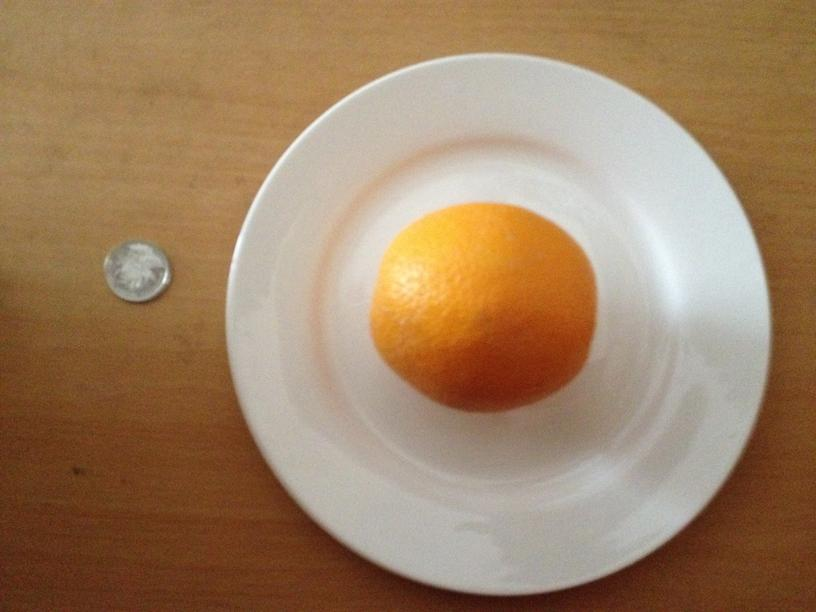coin: (104, 239, 170, 304)
orange: (367, 201, 598, 411)
